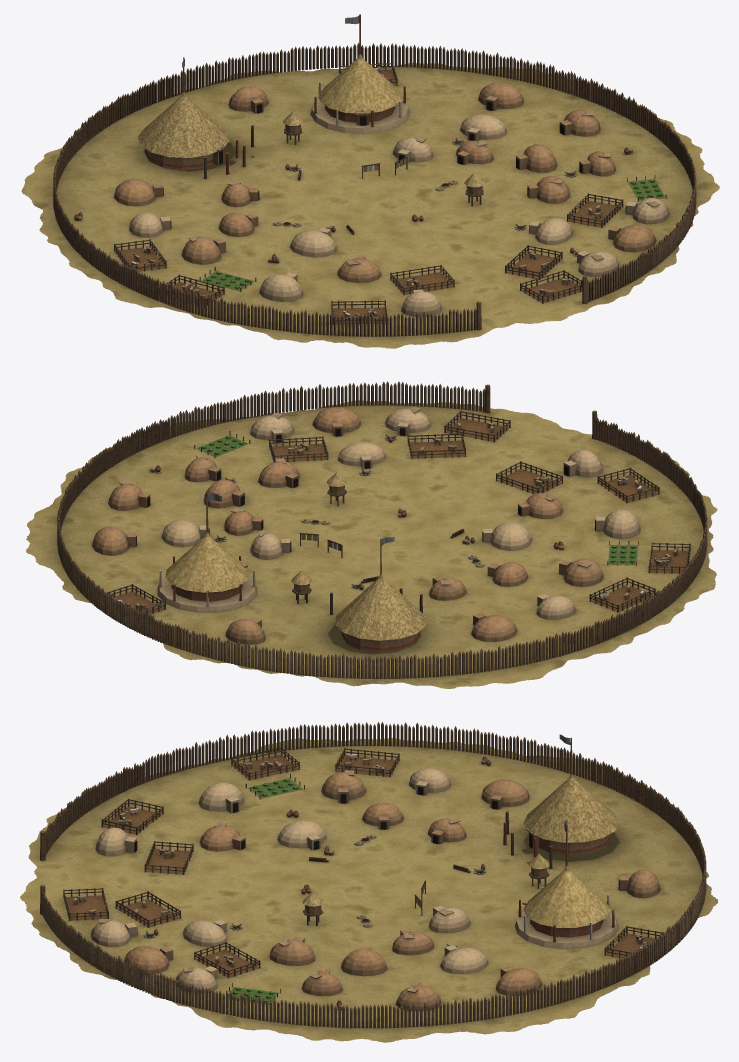
Rendered from stone-town-big-b-eastafrica.glb.
3 renders of one model, top to bottom at view 1: azimuth 30°, elevation 25°; view 2: azimuth 150°, elevation 25°; view 3: azimuth 270°, elevation 25°, orthographic. The views are drawn at different scales.
Visible parts, largest first — view 1: LOD0; view 2: LOD0; view 3: LOD0.
Boxes of the visible parts, bbox=[...] form: LOD0: bbox=[21, 14, 719, 348]; LOD0: bbox=[26, 381, 717, 688]; LOD0: bbox=[20, 722, 717, 1042].
Size of what is drawn, in the model's own units: 7.94 by 1.25 by 7.66.
3 materials, 3 textured.
